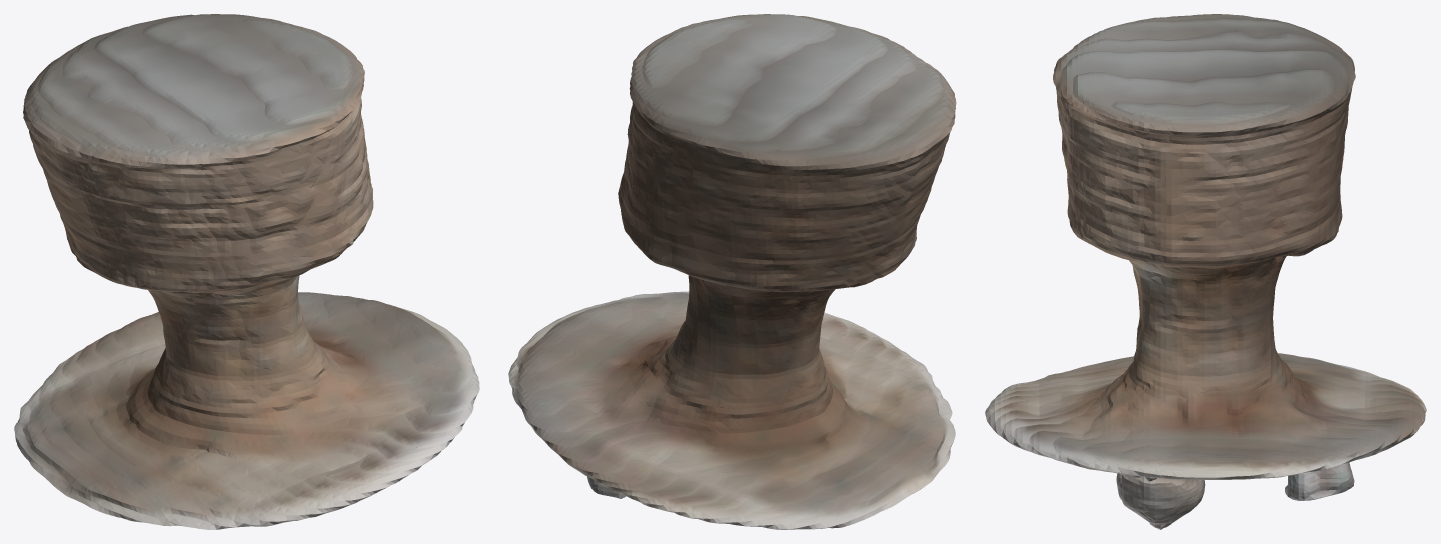
File: ornate-marble-top-side-table.glb
3 views of the same model, side by side, from view 1: azimuth 30°, elevation 25°; view 2: azimuth 150°, elevation 25°; view 3: azimuth 270°, elevation 25° (orthographic). The views are drawn at different scales.
Visible parts, largest first — view 1: orient; view 2: orient; view 3: orient.
Part boxes in pixels (left/top/right/bottom): orient: left=14, top=14, right=479, bottom=529; orient: left=508, top=14, right=956, bottom=529; orient: left=985, top=14, right=1426, bottom=529.
Size of the model in its own units: 0.455 by 0.47 by 0.455.
